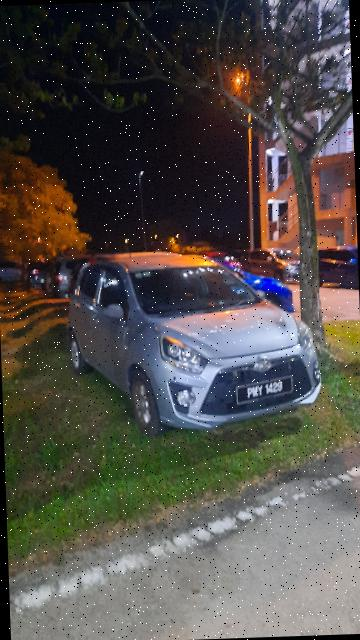License_Plate: (233, 372, 296, 403)
car: (66, 246, 327, 435)
